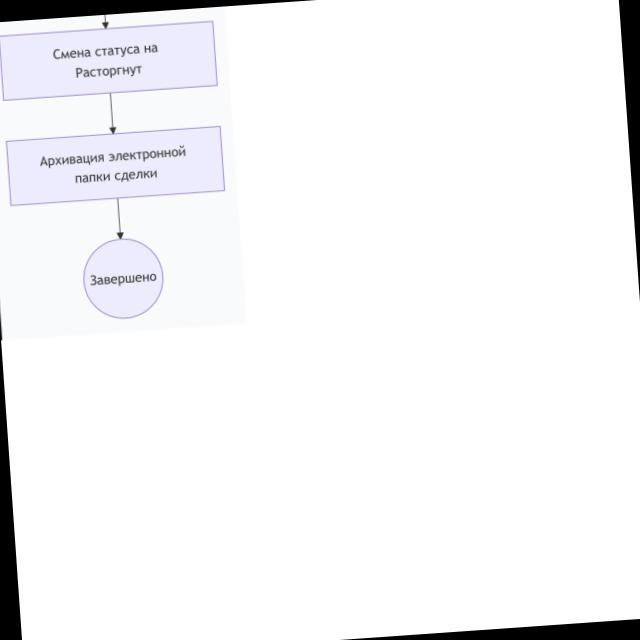arrow: (110, 94, 116, 134), (117, 199, 123, 238)
circle: (84, 238, 163, 318)
rectangle: (6, 127, 224, 205), (145, 46, 150, 52)
